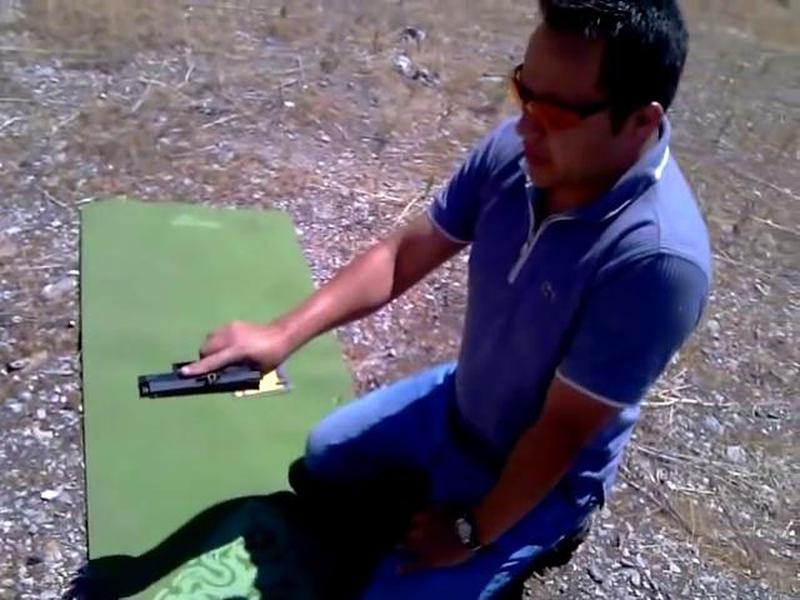Pistola: (121, 329, 268, 425)
